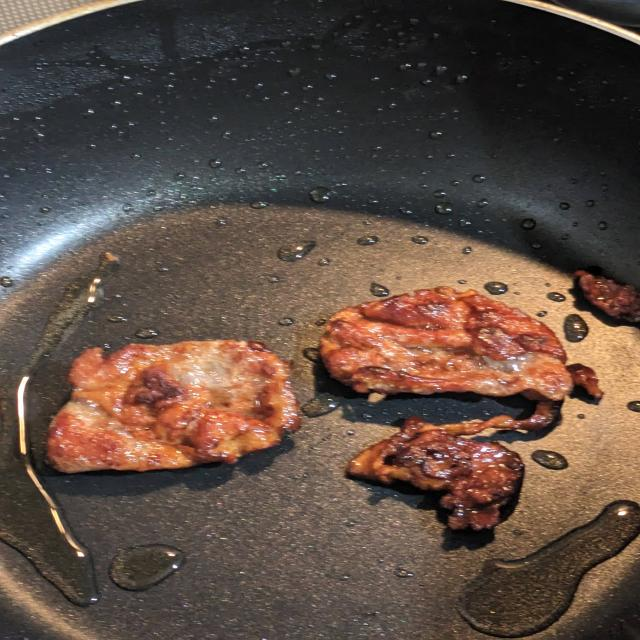overcooked pork: (301, 280, 608, 537), (28, 327, 317, 482), (562, 259, 640, 334)
